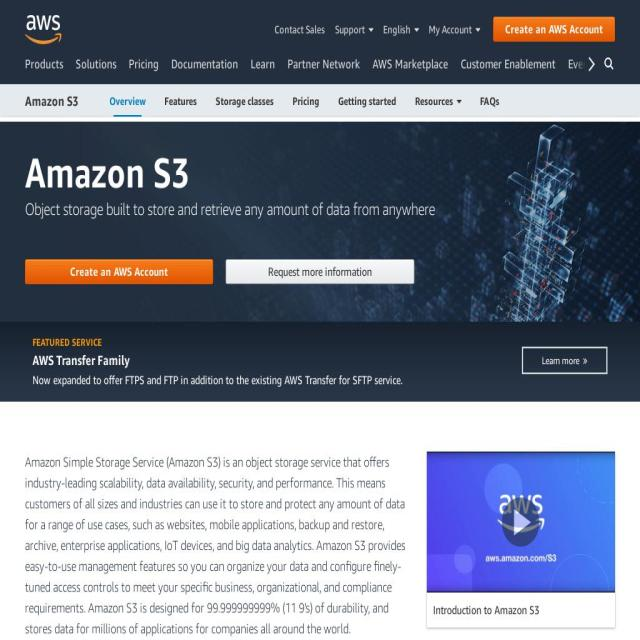button: (0, 322, 640, 402), (25, 259, 214, 284), (226, 259, 414, 284), (454, 53, 562, 92), (366, 53, 454, 92), (282, 53, 366, 92), (493, 16, 615, 42), (165, 53, 244, 92), (328, 84, 406, 116), (206, 84, 283, 116), (406, 84, 470, 116), (70, 53, 122, 92), (19, 53, 69, 92), (502, 498, 540, 548), (100, 84, 155, 116), (123, 53, 165, 92), (155, 84, 206, 116), (562, 53, 602, 92), (244, 53, 282, 92), (602, 53, 640, 92), (283, 84, 329, 116), (471, 84, 508, 116), (25, 90, 78, 112), (424, 20, 485, 38), (25, 15, 62, 44), (274, 20, 330, 38), (330, 20, 378, 38), (378, 20, 424, 38)
heading: (25, 146, 615, 196), (25, 196, 615, 222), (32, 350, 404, 371)
iframe: (426, 452, 615, 593)
image: (426, 452, 615, 593), (604, 42, 615, 92)
text: (25, 453, 406, 637), (32, 371, 404, 389), (32, 334, 404, 350), (226, 260, 414, 283), (26, 260, 213, 283), (432, 601, 608, 620), (494, 17, 614, 41), (25, 15, 62, 44), (428, 22, 474, 36), (415, 94, 457, 108), (541, 354, 583, 367), (335, 22, 367, 36), (383, 22, 413, 36)
